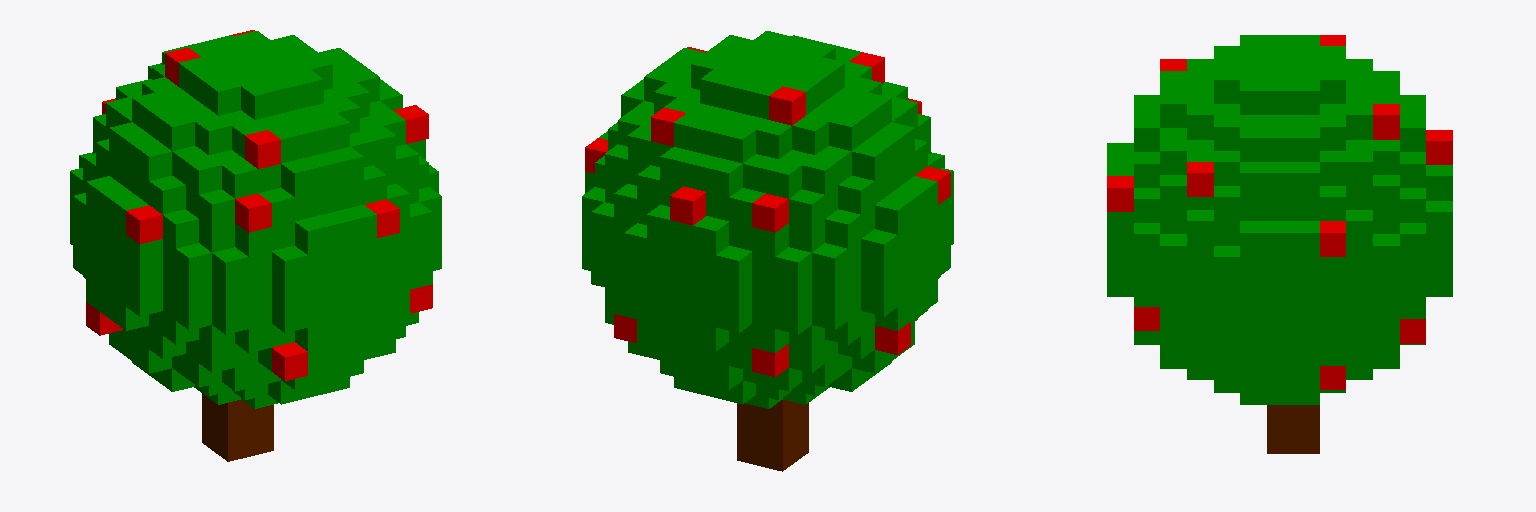
3 views of the same model, side by side, from view 1: azimuth 30°, elevation 25°; view 2: azimuth 150°, elevation 25°; view 3: azimuth 270°, elevation 25° (orthographic).
Parts seen in each view (by area): view 1: object 1; view 2: object 1; view 3: object 1.
Part boxes in pixels (left/top/right/bottom): object 1: left=70, top=30, right=441, bottom=461; object 1: left=582, top=31, right=953, bottom=471; object 1: left=1107, top=35, right=1452, bottom=453.
Bounding box in the file's own units: 1.3 × 1.6 × 1.3.
1 materials, 1 textured.